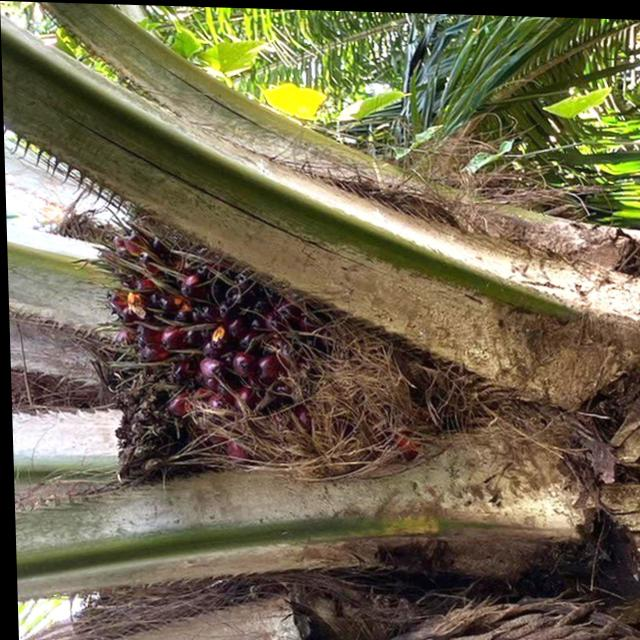ripe: (99, 233, 361, 464)
